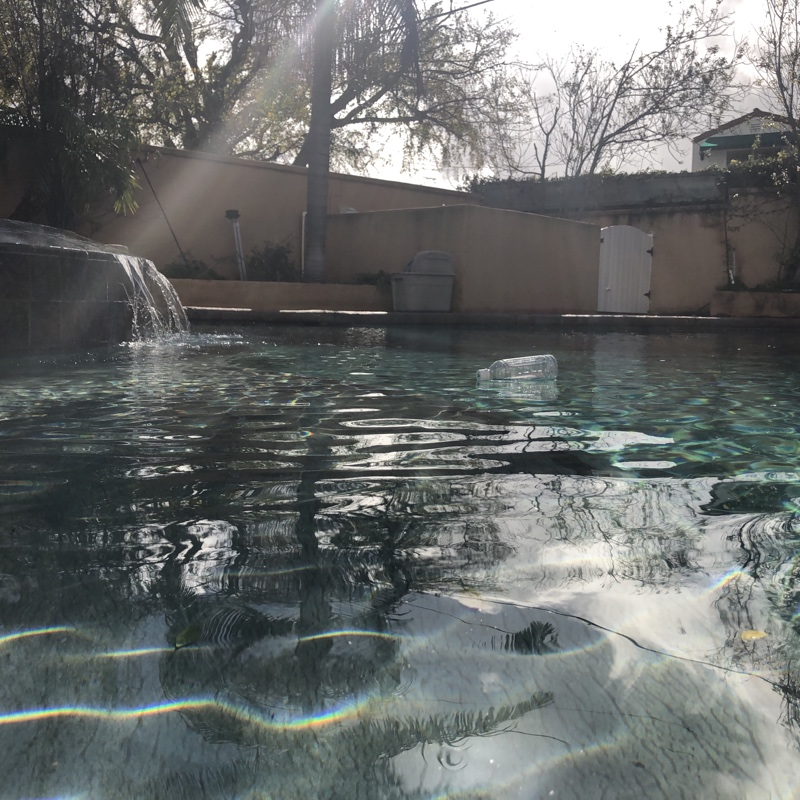Plastic Bottle: (475, 348, 561, 392)
